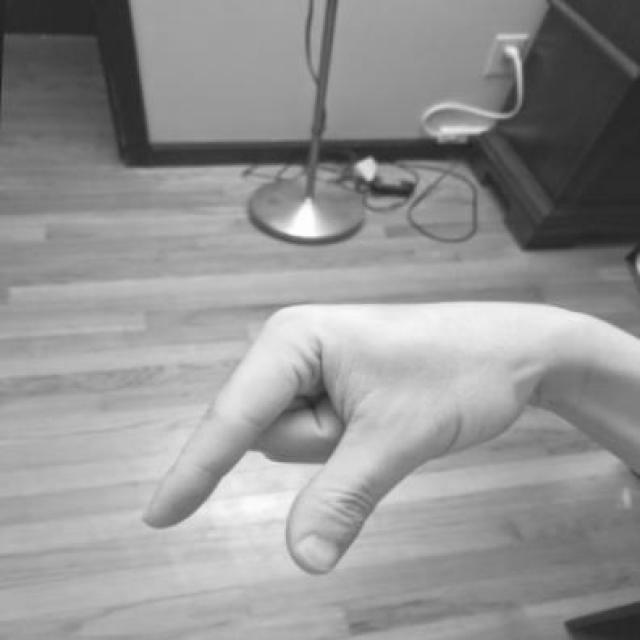Q: (136, 281, 558, 587)
